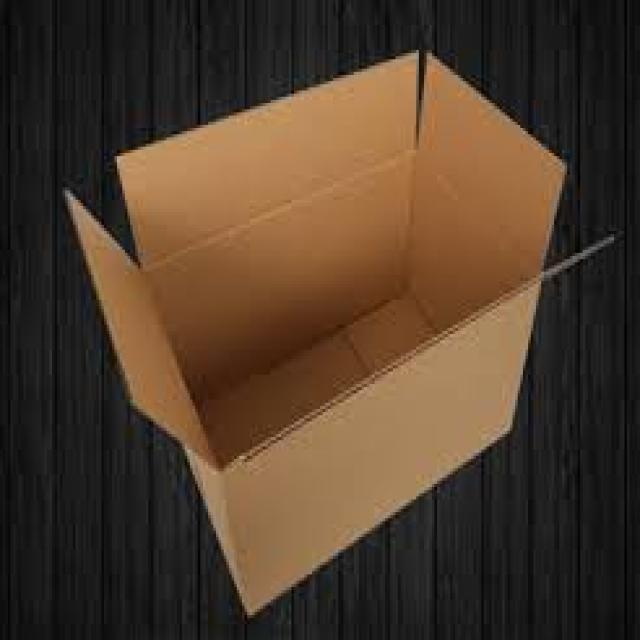Cardboard: (71, 46, 561, 620)
